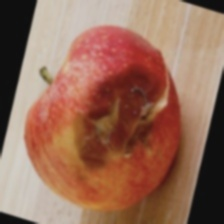apple: (41, 0, 204, 200)
